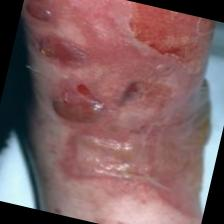burns: (22, 74, 220, 217), (118, 2, 220, 72), (42, 74, 119, 132), (32, 28, 100, 75), (18, 0, 71, 32)
